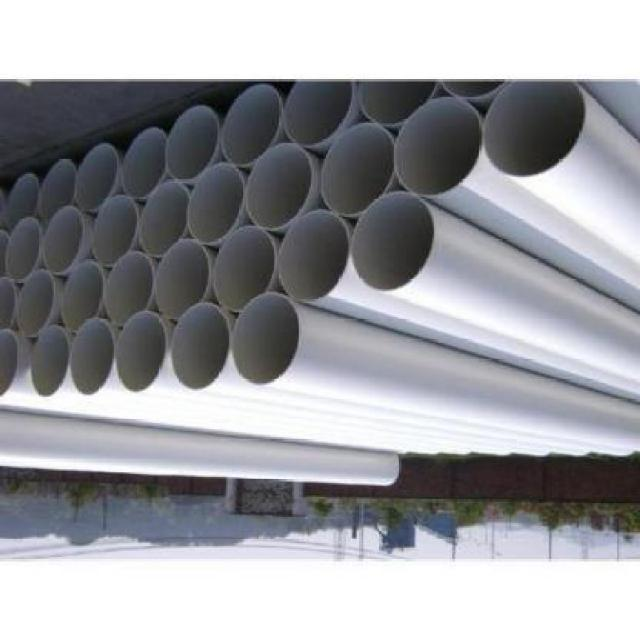pipe: (483, 80, 586, 179), (394, 97, 482, 197), (352, 191, 434, 293), (320, 123, 396, 217), (279, 209, 353, 300), (231, 292, 300, 386), (246, 142, 312, 230), (214, 225, 276, 310), (171, 303, 230, 391), (222, 85, 284, 166), (186, 164, 245, 245), (283, 80, 354, 146), (156, 238, 210, 320), (116, 311, 167, 393), (166, 106, 220, 183), (138, 181, 191, 257), (105, 251, 154, 326), (69, 317, 114, 396), (91, 194, 139, 267), (122, 126, 167, 200), (62, 260, 104, 333), (74, 143, 119, 211), (42, 206, 85, 274), (31, 325, 70, 398), (17, 269, 56, 337), (5, 217, 44, 282), (38, 161, 77, 222), (5, 174, 41, 233)
